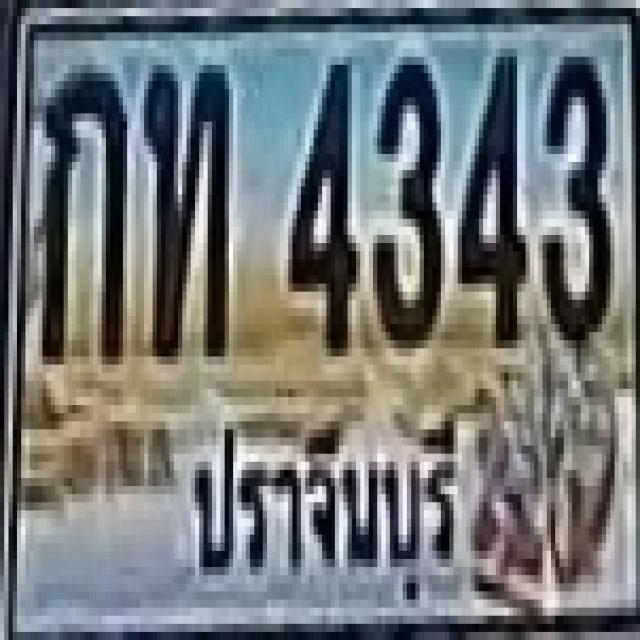-: (34, 65, 123, 356), (140, 57, 225, 356)
3: (538, 49, 606, 340), (368, 49, 436, 340)
4: (284, 53, 352, 344), (456, 41, 519, 340)
PRI: (177, 399, 468, 612)
